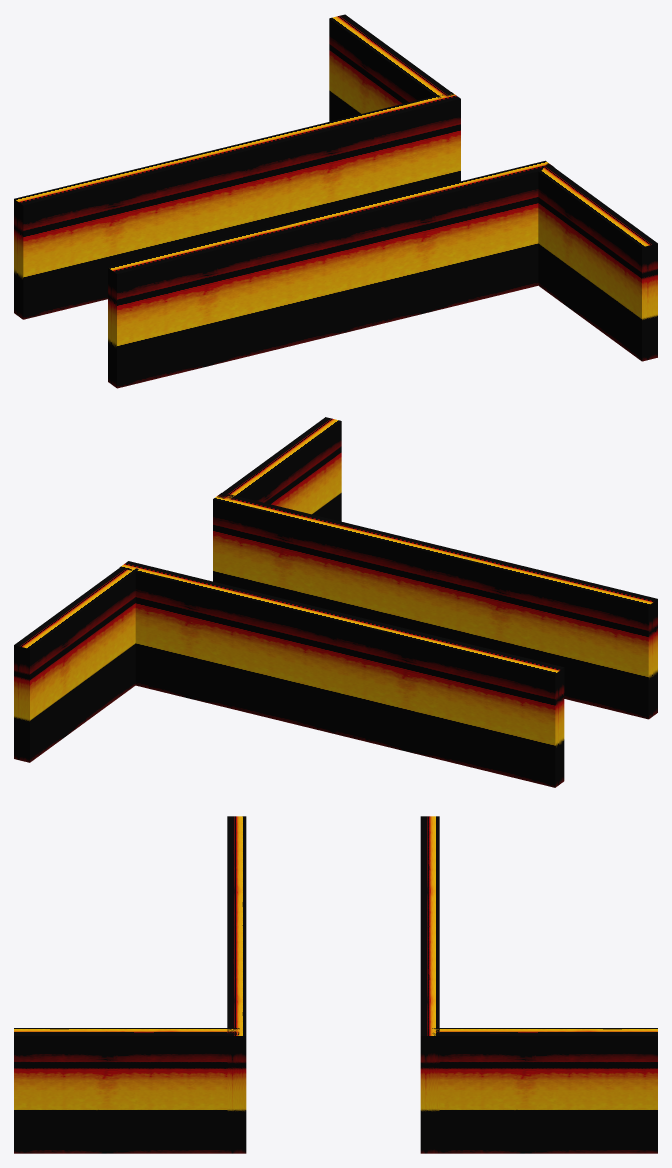
File: WallsPasillo.obj
3 renders of one model, top to bottom at view 1: azimuth 30°, elevation 25°; view 2: azimuth 150°, elevation 25°; view 3: azimuth 270°, elevation 25°, orthographic. The views are drawn at different scales.
Parts seen in each view (by area): view 1: Cube.029_Cube.026; view 2: Cube.029_Cube.026; view 3: Cube.029_Cube.026.
Part boxes in pixels (x1,y1,x2,y2): Cube.029_Cube.026: (14,14,657,388); Cube.029_Cube.026: (14,417,657,787); Cube.029_Cube.026: (14,816,657,1153).
Size of the model in its own units: 12.86 by 3.21 by 15.91.
